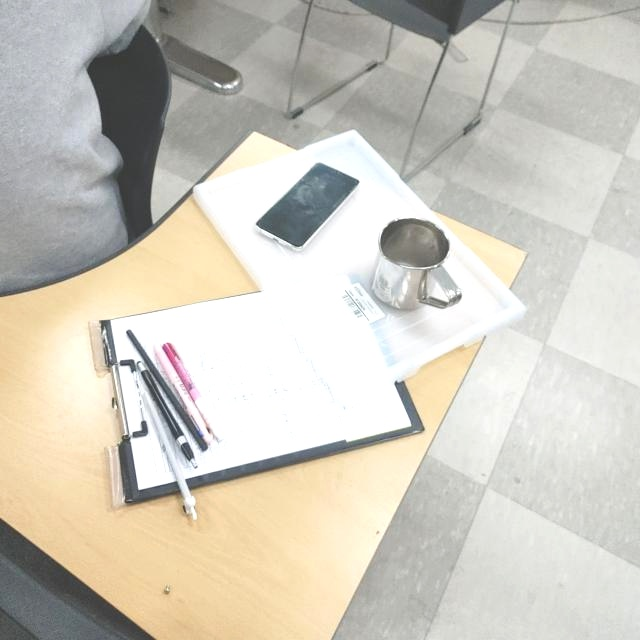cup: (373, 216, 463, 316)
phone: (255, 160, 360, 255)
